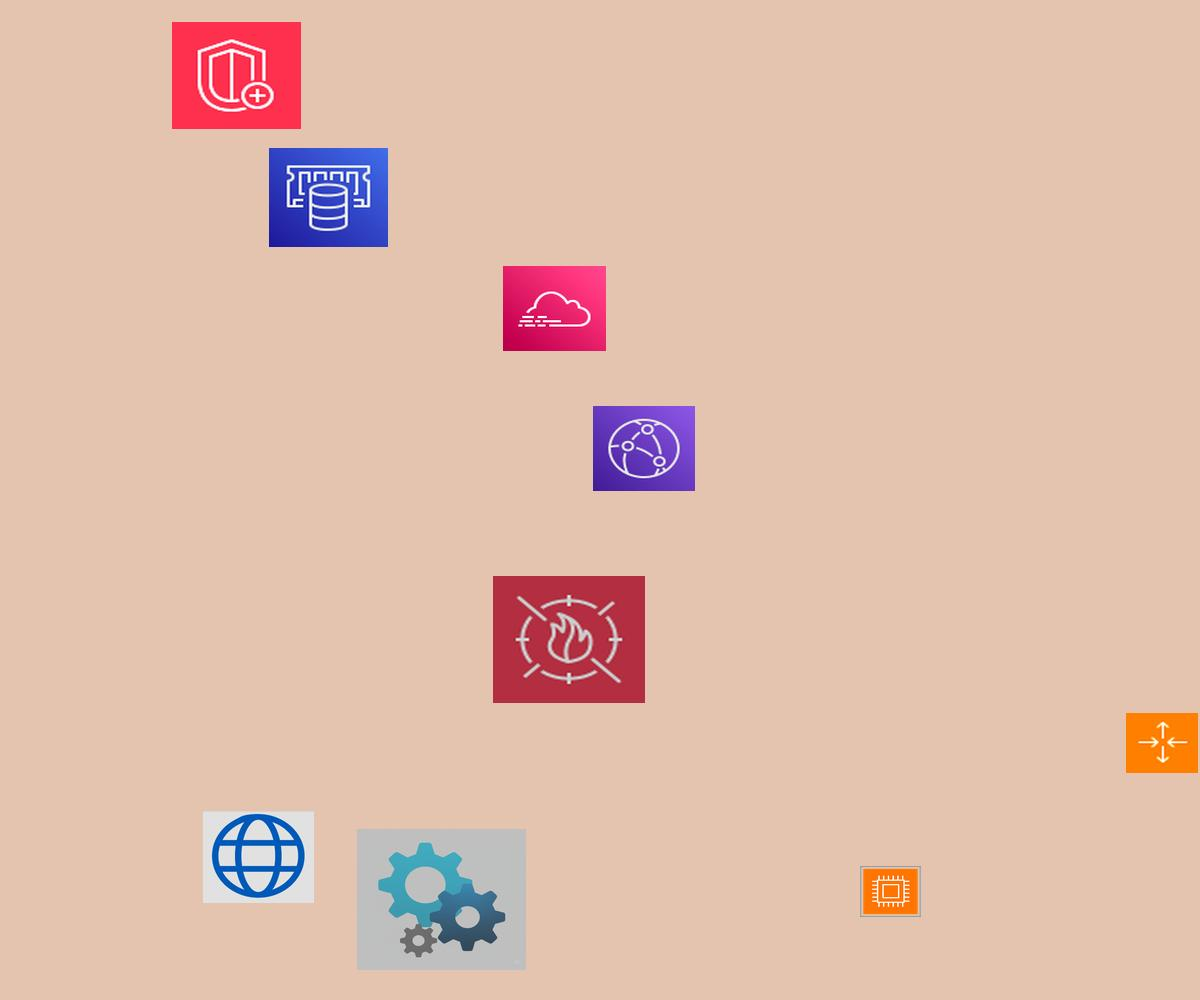AWS-Category_Compute: (860, 866, 921, 917)
AWS-CloudFront: (593, 406, 695, 491)
AWS-CloudTrail: (503, 266, 606, 351)
AWS-ElastiCache: (269, 148, 388, 247)
AWS-Scaling-group: (1126, 713, 1198, 773)
AWS-Shield: (172, 22, 301, 129)
AWS-WAF: (493, 576, 645, 703)
Azure_api: (357, 829, 526, 970)
Azure_http: (203, 811, 314, 903)
